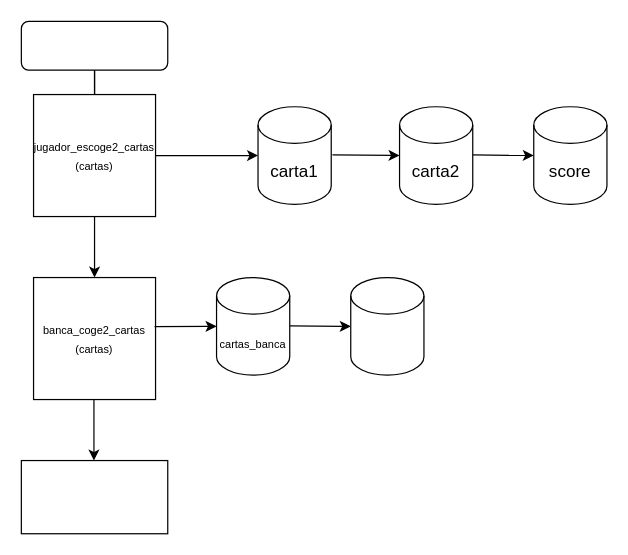
Image size: 628x555. Some labels were removed from this diagram. Here are the shapes that lost their labels. From the top down, the box of each, then its label:
(20, 20, 168, 70): blacjack(cartas)
(350, 276, 424, 375): score_banca
(20, 459, 168, 534): muestra estado del jugador y la banca
